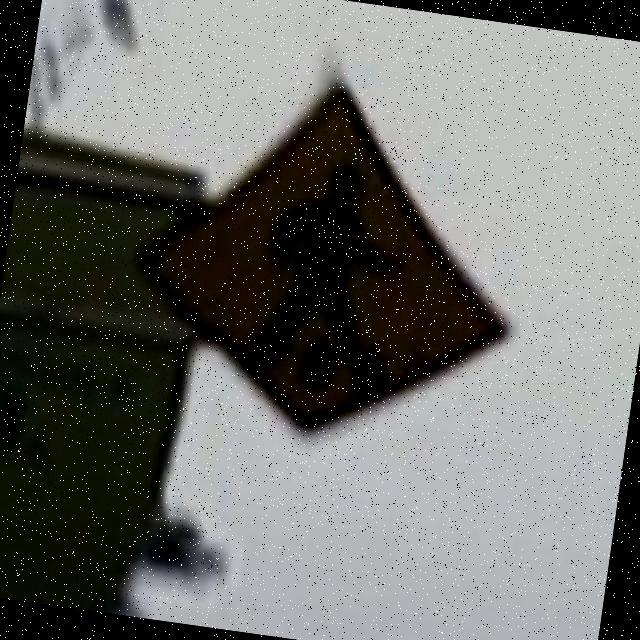Przejscie dla pieszych: (141, 70, 517, 432)
